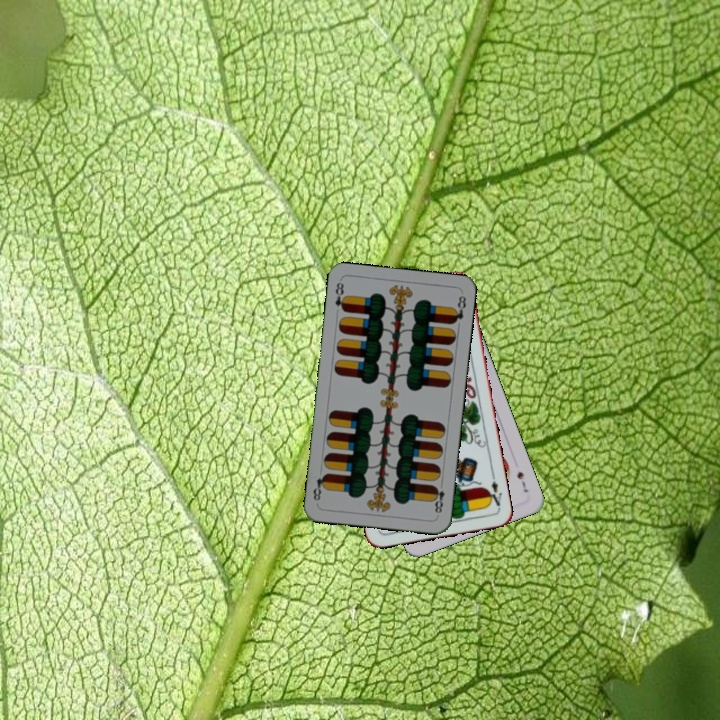E8: (429, 478, 447, 516), (331, 278, 349, 314)
EA: (483, 471, 504, 511)
S7: (513, 467, 531, 495)
